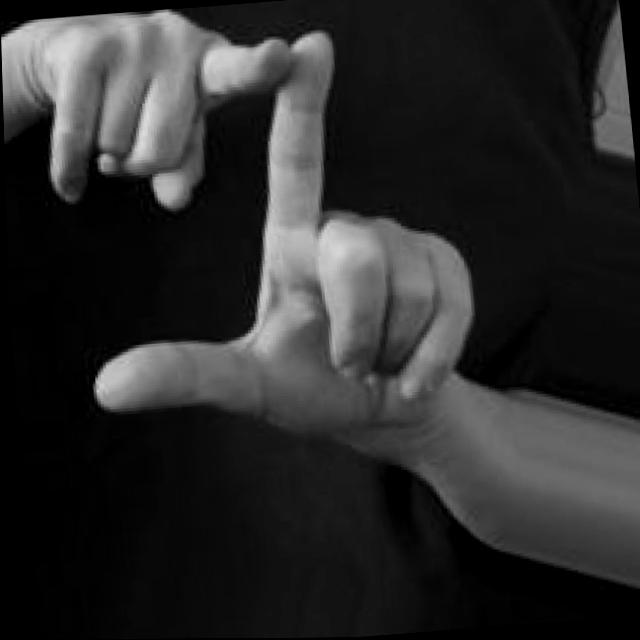J: (0, 0, 487, 472)
